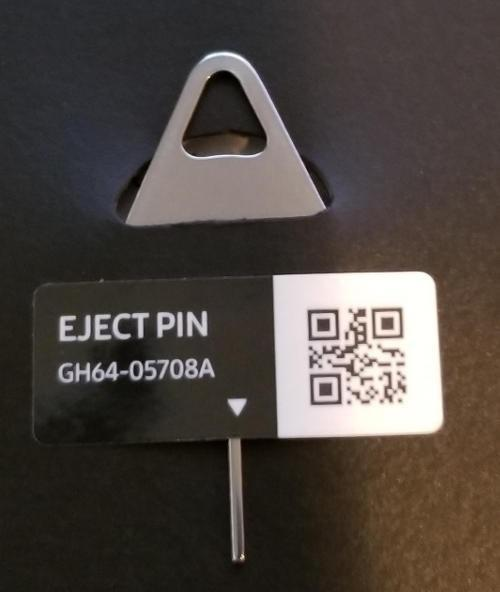Finder pattern: (302, 304, 343, 343), (305, 370, 347, 407), (367, 306, 408, 341)
